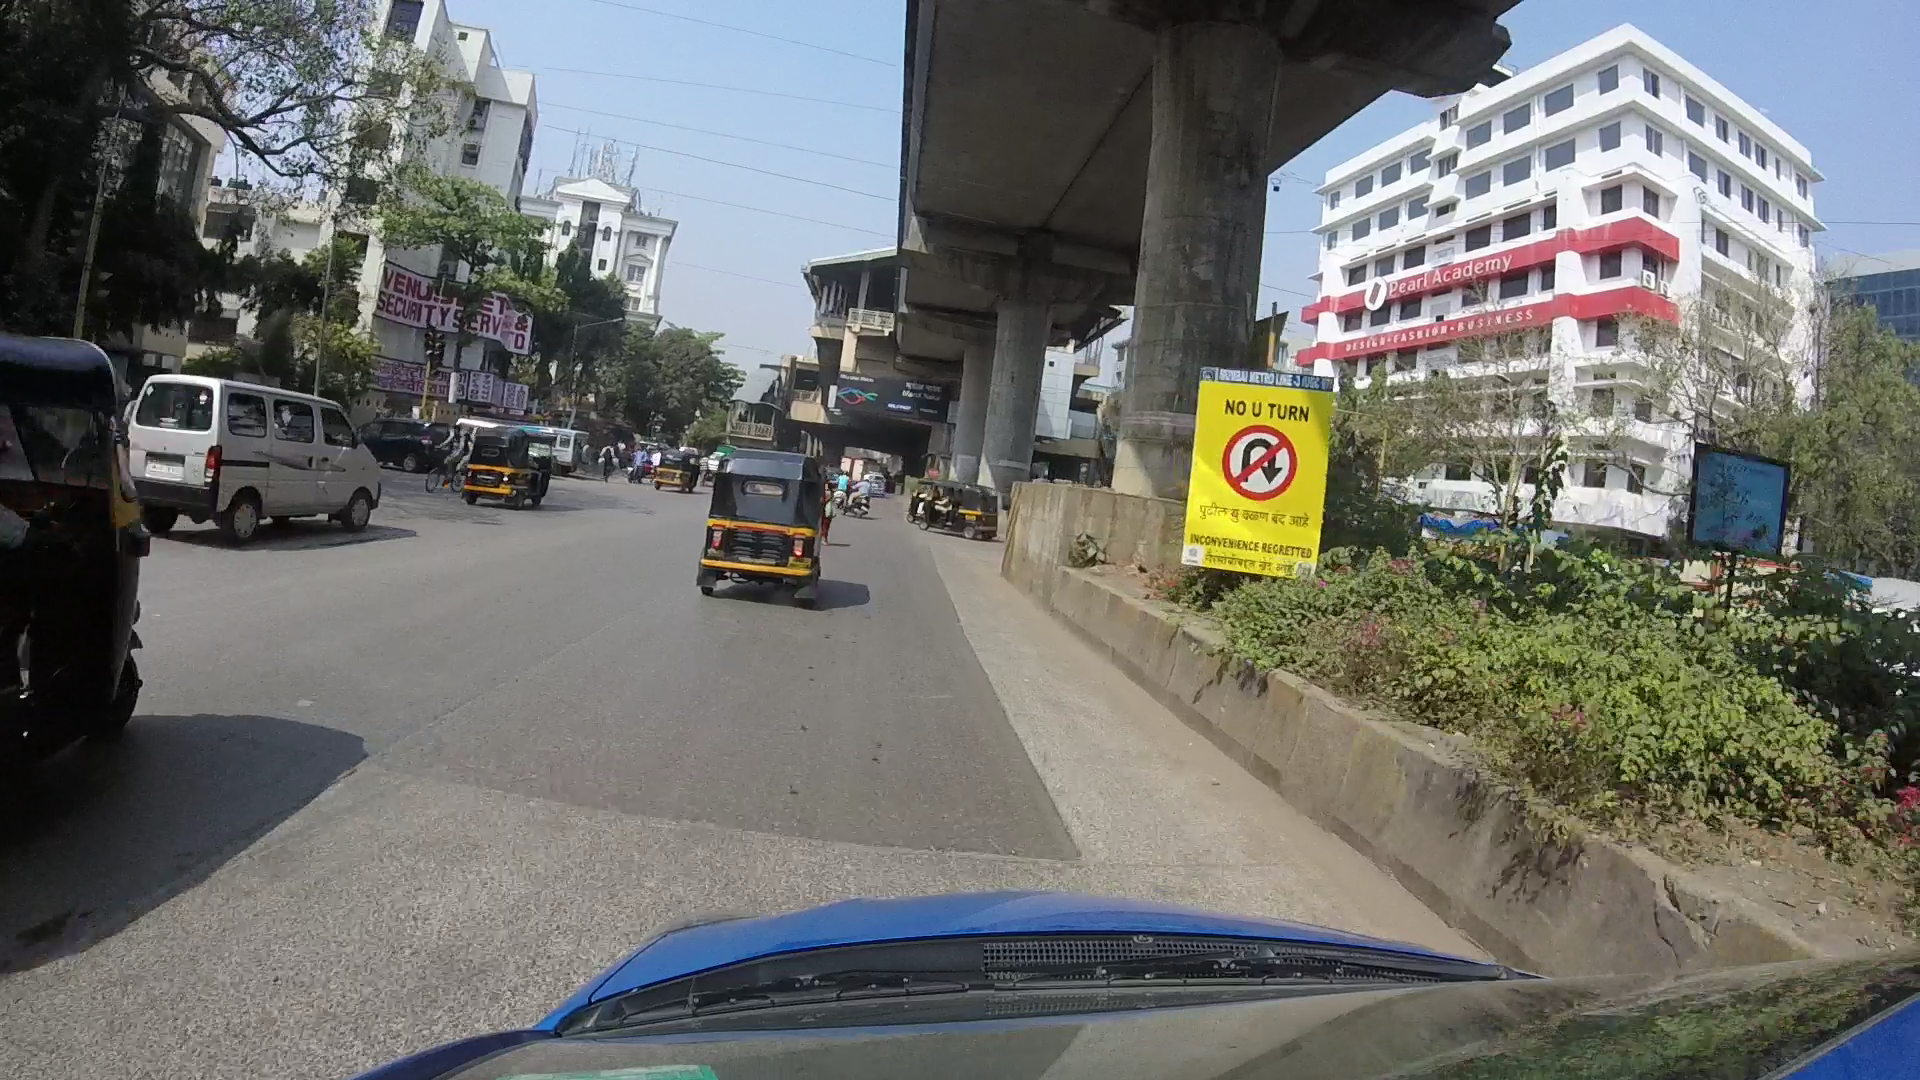car: (138, 323, 381, 534)
rickshaw: (1, 330, 165, 781), (674, 418, 851, 605), (451, 398, 567, 534), (905, 469, 1001, 545), (649, 442, 702, 500)
